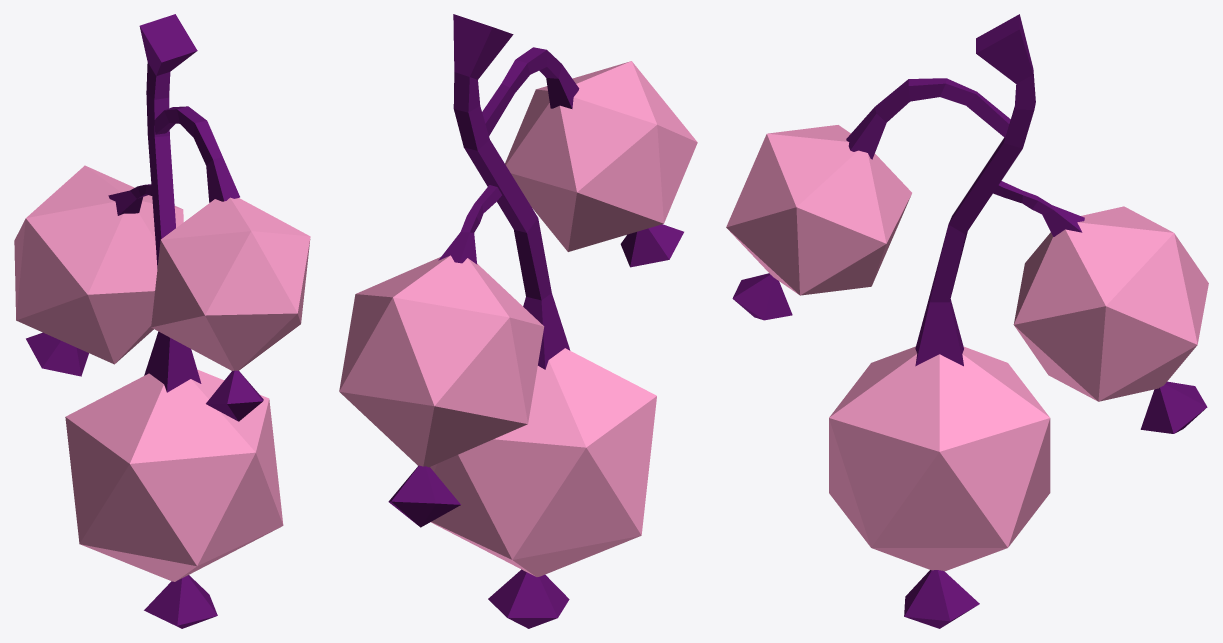
Rendered from life_item_pinkfruit.fbx.
3 views of the same model, side by side, from view 1: azimuth 30°, elevation 25°; view 2: azimuth 150°, elevation 25°; view 3: azimuth 270°, elevation 25° (orthographic). The views are drawn at different scales.
Parts seen in each view (by area): view 1: Icosphere.004; view 2: Icosphere.004; view 3: Icosphere.004.
Part boxes in pixels (x1=…): Icosphere.004: x1=14, y1=14, x2=310, y2=628; Icosphere.004: x1=339, y1=14, x2=697, y2=628; Icosphere.004: x1=726, y1=14, x2=1208, y2=628.
Size of the model in its own units: 0.269 by 0.785 by 0.558.
